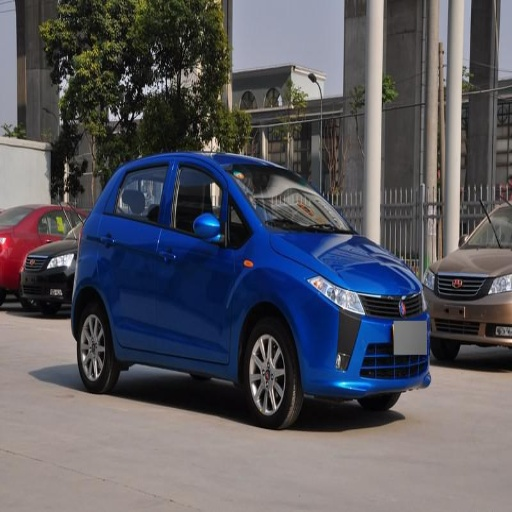front_bumper: (301, 275, 511, 398)
front_right_door: (158, 161, 236, 362)
